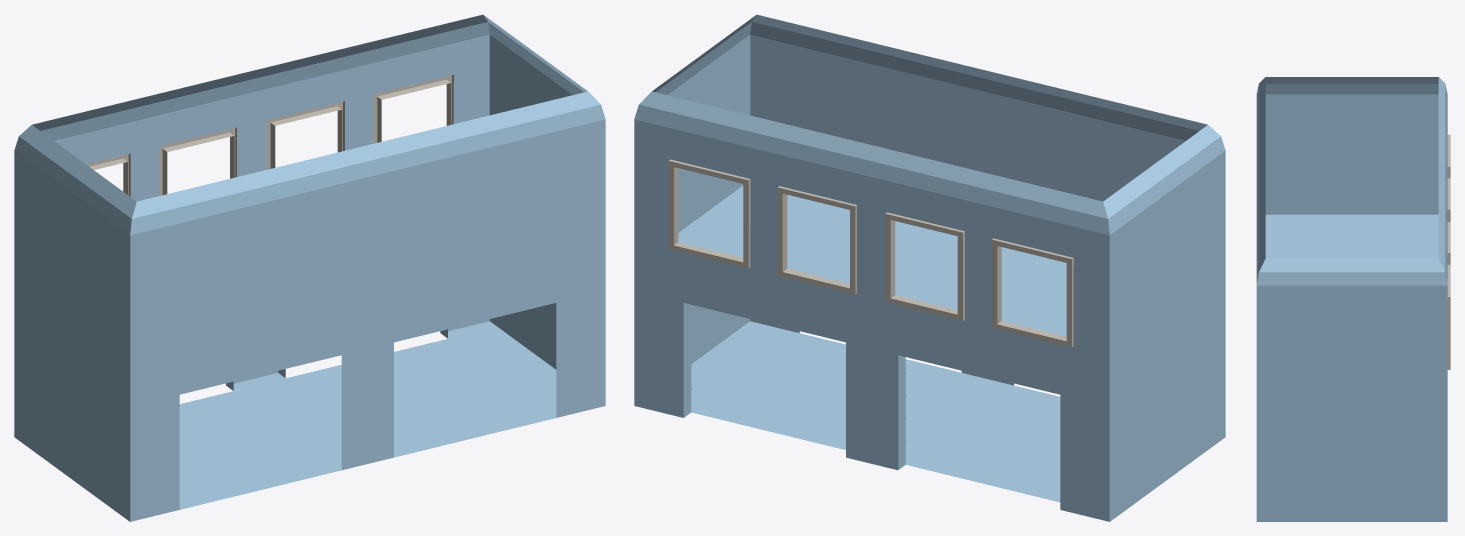
The model's file is Bld_R_med_L1_A.fbx.
3 views of the same model, side by side, from view 1: azimuth 30°, elevation 25°; view 2: azimuth 150°, elevation 25°; view 3: azimuth 270°, elevation 25° (orthographic). The views are drawn at different scales.
Parts seen in each view (by area): view 1: Bld_R_med_L1_A_LOD0; view 2: Bld_R_med_L1_A_LOD0; view 3: Bld_R_med_L1_A_LOD0.
Part boxes in pixels (x1,y1,x2,y2): Bld_R_med_L1_A_LOD0: [14, 14, 605, 521]; Bld_R_med_L1_A_LOD0: [634, 14, 1225, 521]; Bld_R_med_L1_A_LOD0: [1256, 77, 1450, 521].
Size of what is drawn, in the model's own units: 1414 by 1223 by 607.
Materials: 1 (1 with a texture image).
